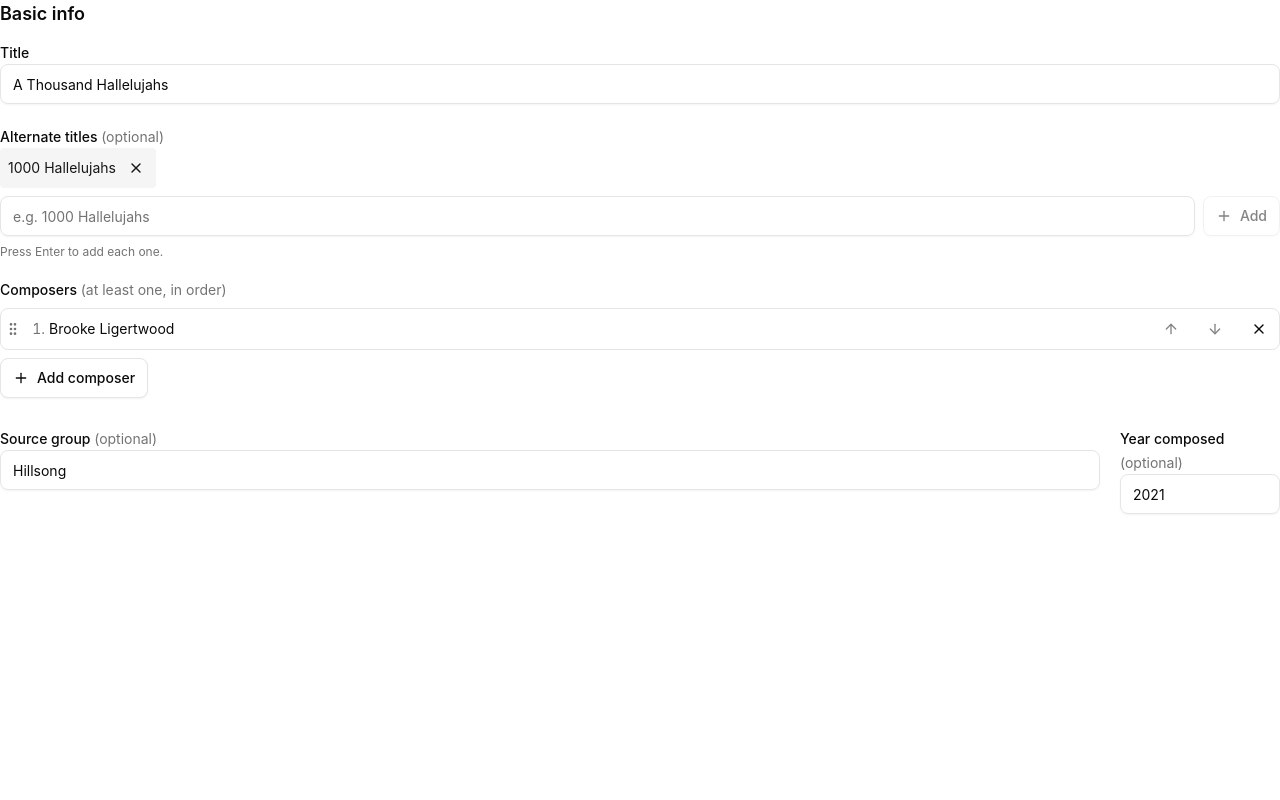
Test case: BasicInfoSection › hides already-selected composers from results
Step 1. Click the button "Add composer" → (74, 378), box [0,358,148,398]
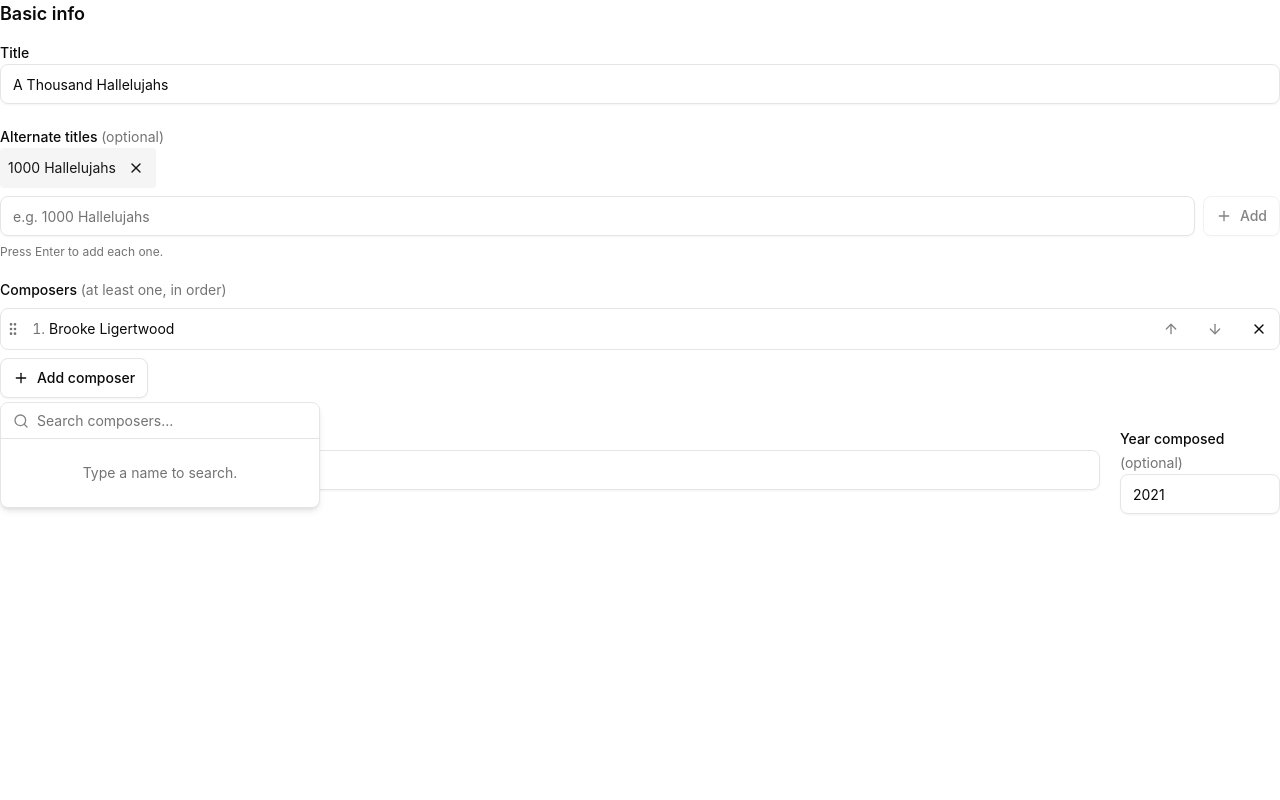
Step 2. Type "Brooke Ligertwood" into the dropdown labelled "Search composers" → (172, 420), box [37,400,307,440]
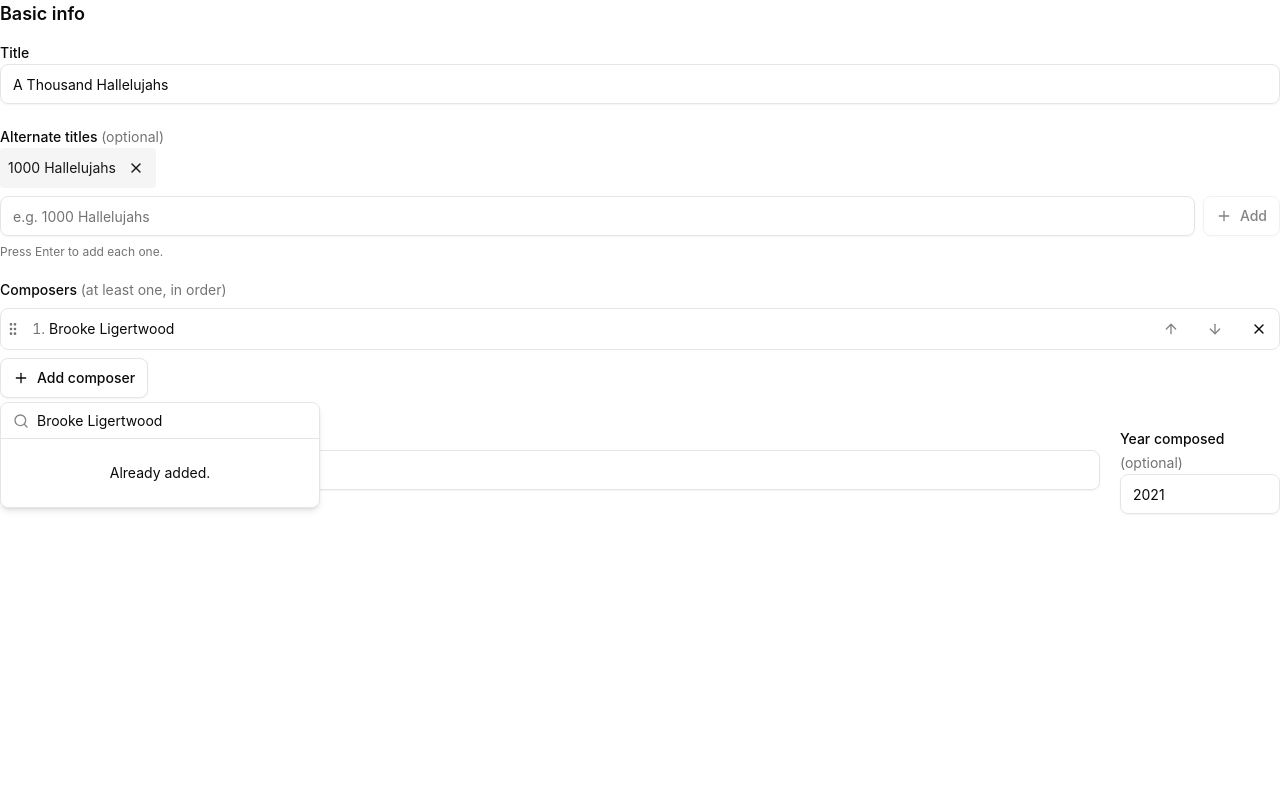
expect the text "Already added." is shown: met, box [110,464,210,481]
